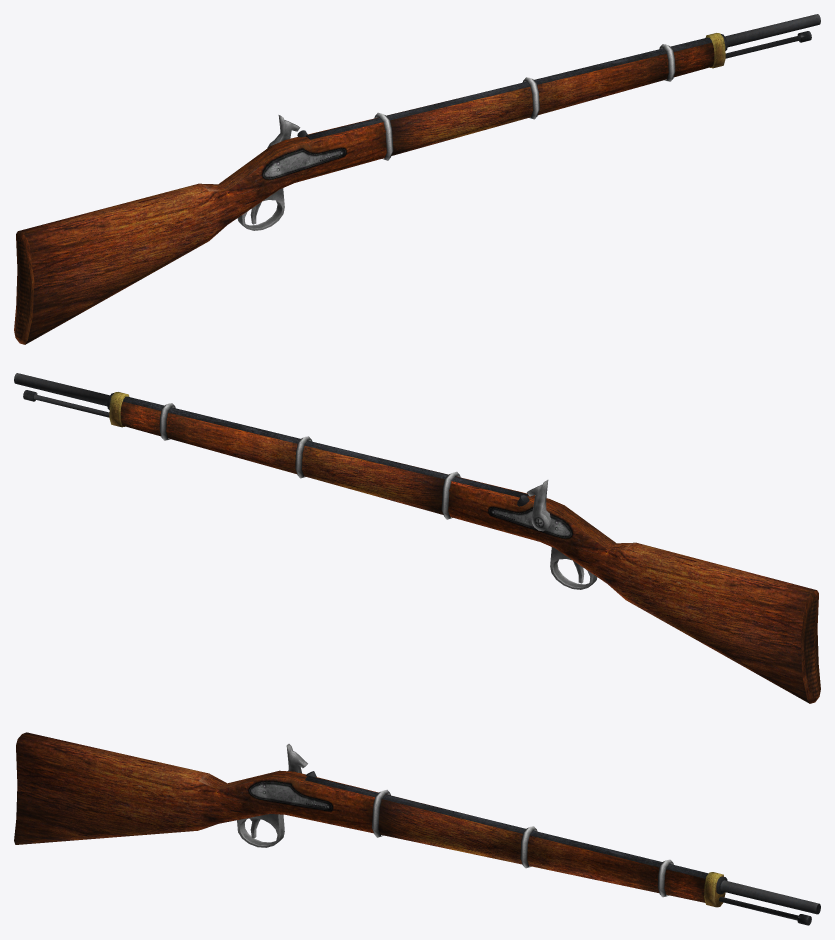
File: enfield_rifle.DAE
The picture shows the model from 3 angles, top to bottom: view 1: azimuth 30°, elevation 25°; view 2: azimuth 150°, elevation 25°; view 3: azimuth 330°, elevation 25°; orthographic projection.
Parts seen in each view (by area): view 1: Box002; view 2: Box002; view 3: Box002.
Part boxes in pixels (x1,y1,x2,y2): Box002: (14, 14, 820, 344); Box002: (14, 373, 820, 703); Box002: (14, 732, 820, 925).
Size of the model in its own units: 2.05 by 0.0899 by 0.3925.
